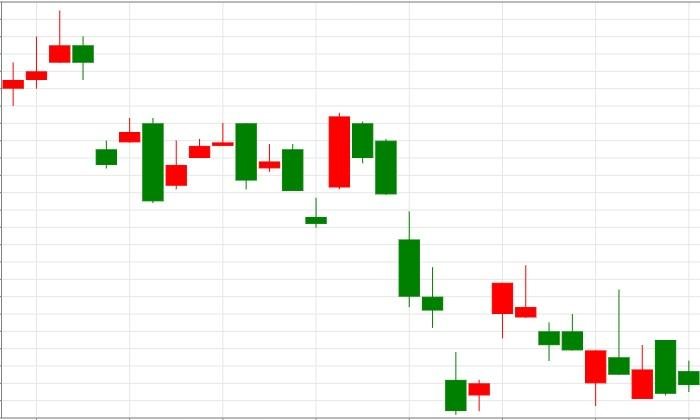bearish_engulfing_fall: (142, 119, 257, 203)
inverse_hammer_rise: (491, 265, 630, 406)
